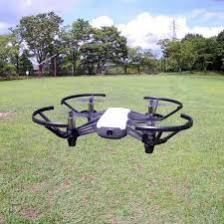drone: (33, 92, 194, 154)
